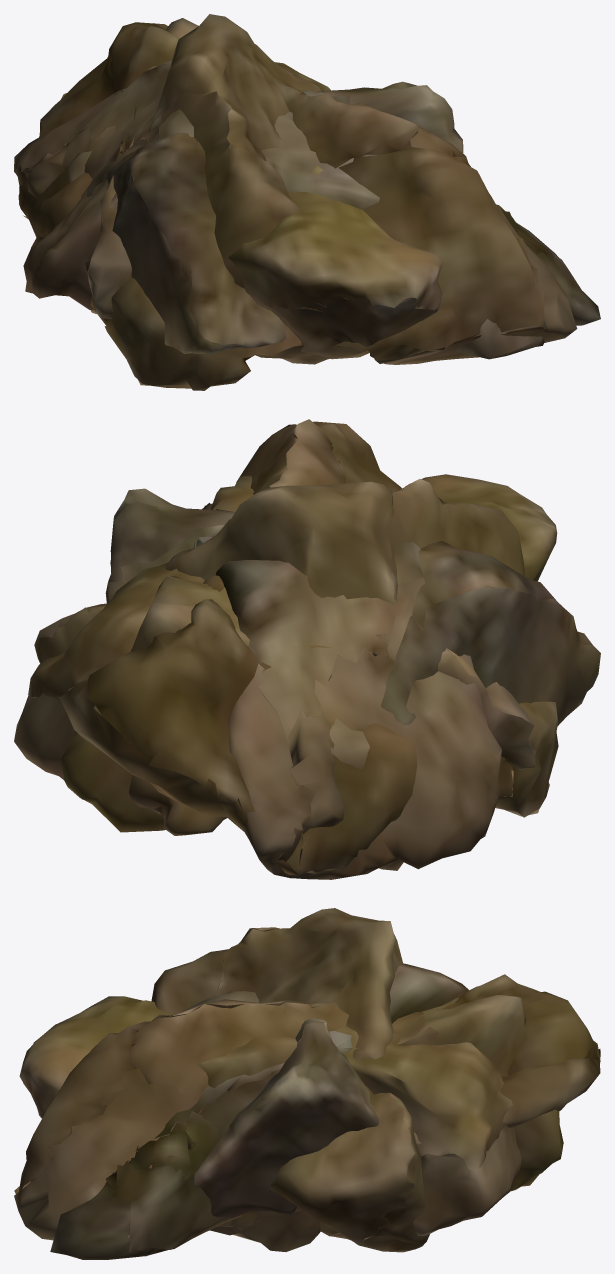
File: rocks.glb
3 views of the same model, one above another, from view 1: azimuth 30°, elevation 25°; view 2: azimuth 150°, elevation 25°; view 3: azimuth 270°, elevation 25° (orthographic). The views are drawn at different scales.
Visible parts, largest first — view 1: rock_moss_set_01_rock01, rock_moss_set_01_rock03, rock_moss_set_01_rock02, rock_moss_set_01_rock05, rock_moss_set_01_rock04, rock_moss_set_01_rock06; view 2: rock_moss_set_01_rock02, rock_moss_set_01_rock01, rock_moss_set_01_rock03, rock_moss_set_01_rock04, rock_moss_set_01_rock05, rock_moss_set_01_rock06; view 3: rock_moss_set_01_rock01, rock_moss_set_01_rock04, rock_moss_set_01_rock05, rock_moss_set_01_rock02, rock_moss_set_01_rock03, rock_moss_set_01_rock06.
Boxes of the visible parts, x1,y1,x2,y2 form: rock_moss_set_01_rock01: (18,22,577,390); rock_moss_set_01_rock03: (86,81,463,354); rock_moss_set_01_rock02: (14,60,600,359); rock_moss_set_01_rock05: (66,62,442,364); rock_moss_set_01_rock04: (90,14,320,313); rock_moss_set_01_rock06: (87,18,390,351); rock_moss_set_01_rock02: (193,503,501,879); rock_moss_set_01_rock01: (60,419,558,875); rock_moss_set_01_rock03: (105,488,600,726); rock_moss_set_01_rock04: (34,479,525,870); rock_moss_set_01_rock05: (14,474,557,835); rock_moss_set_01_rock06: (61,469,536,832); rock_moss_set_01_rock01: (14,974,600,1251); rock_moss_set_01_rock04: (151,908,429,1252); rock_moss_set_01_rock05: (19,996,521,1238); rock_moss_set_01_rock02: (31,963,468,1259); rock_moss_set_01_rock03: (184,986,437,1218); rock_moss_set_01_rock06: (198,995,563,1191).
Bounding box in the file's own units: 2.65 × 1.77 × 3.38.
1 material, 1 textured.
